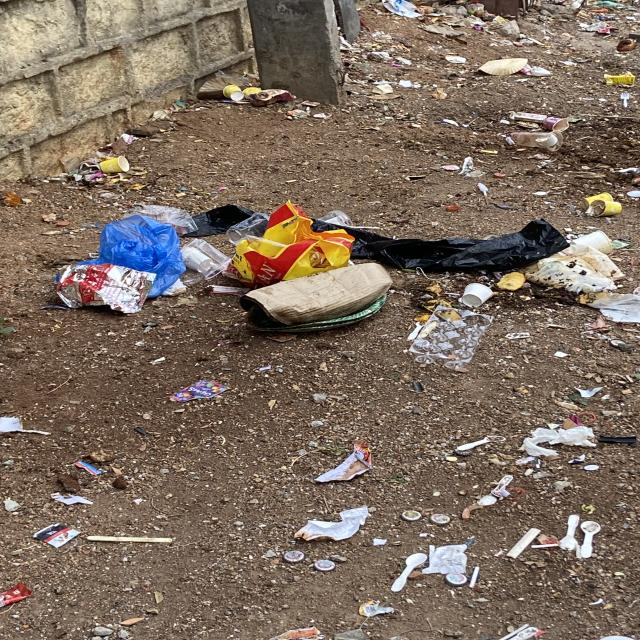giay: (239, 263, 392, 333), (241, 263, 392, 325), (478, 57, 528, 75)
giay_goi: (232, 201, 353, 288), (169, 380, 228, 402), (31, 524, 79, 549), (0, 584, 30, 608)
kim_loai: (282, 551, 305, 564), (313, 560, 335, 573)
ly_hop_giay: (583, 192, 623, 216), (459, 283, 493, 307), (98, 155, 129, 173), (544, 116, 570, 132), (222, 84, 244, 101)
nhom: (55, 263, 155, 313)
nhua: (342, 219, 569, 272), (78, 214, 185, 298), (409, 306, 493, 369), (123, 203, 197, 235), (185, 204, 254, 236), (391, 554, 428, 593), (226, 212, 269, 245), (580, 522, 602, 559), (560, 516, 580, 551), (317, 210, 353, 226)
rac_huu_co: (86, 537, 172, 544)
